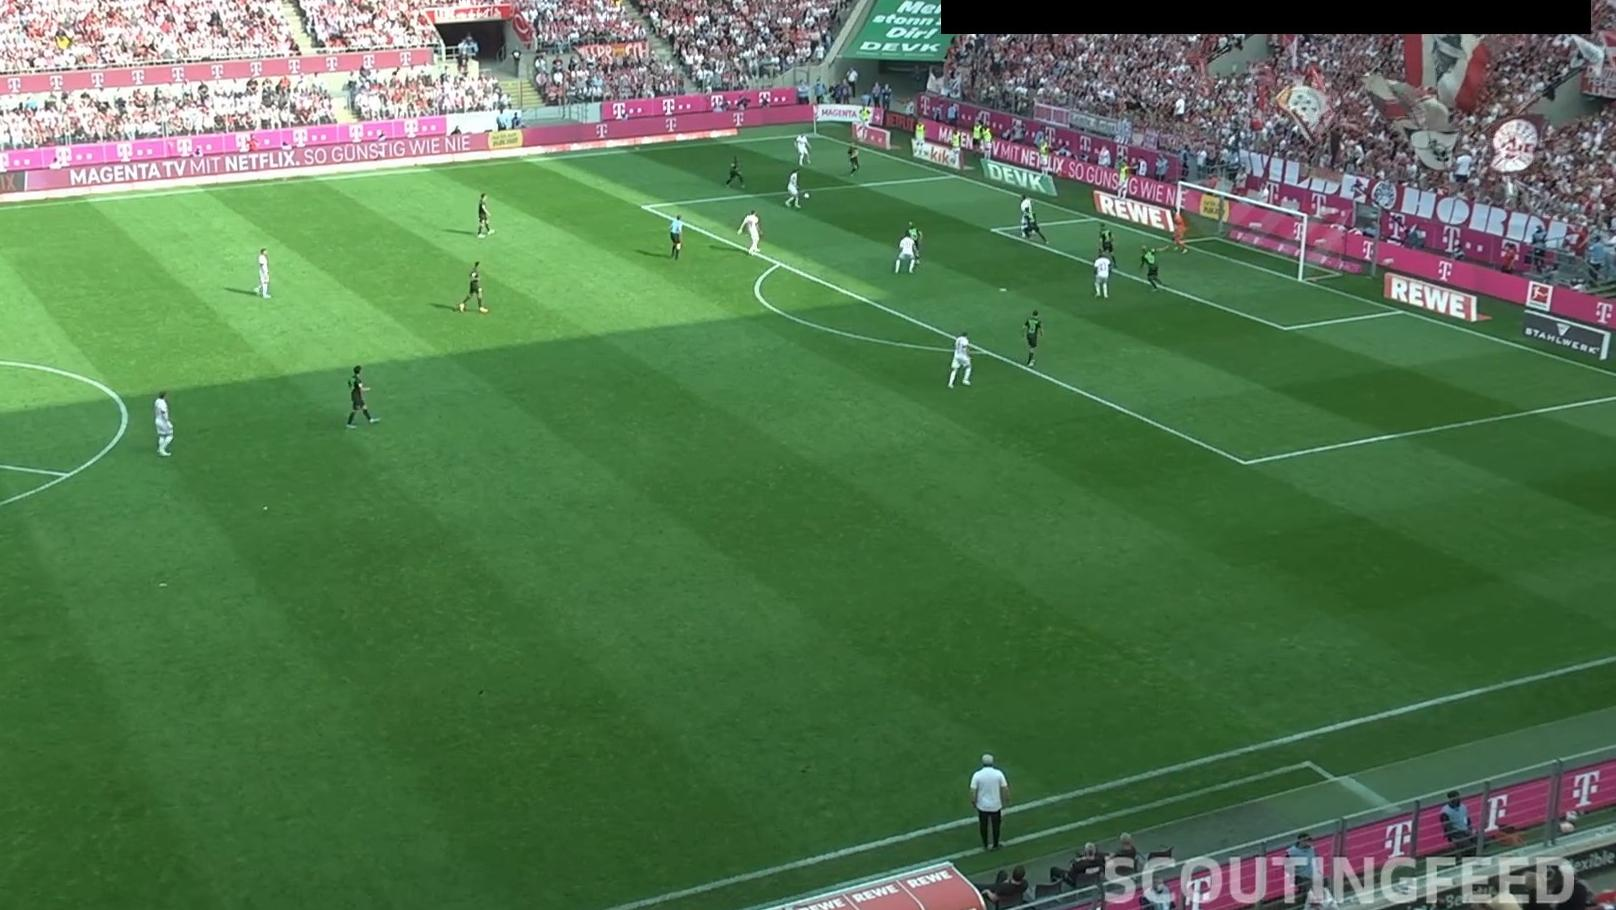ball: (802, 191, 811, 200)
